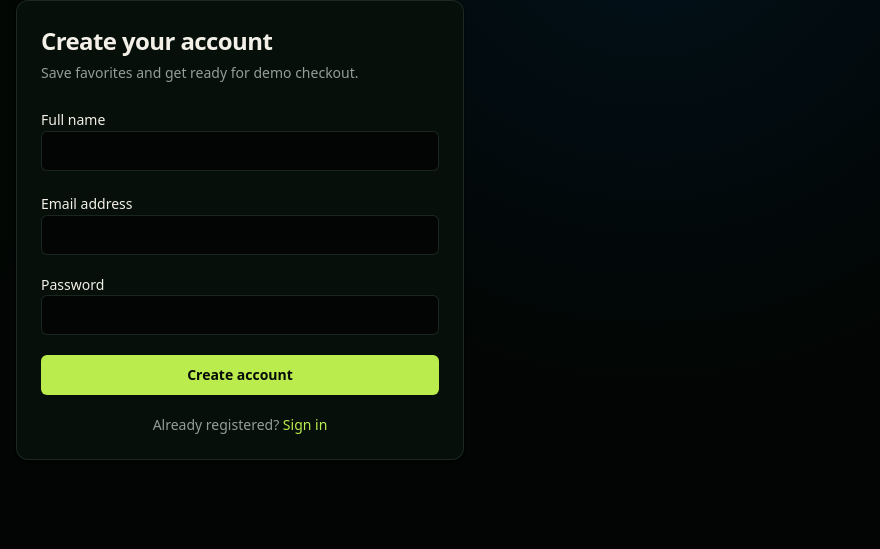
Test case: AuthForm › validates registration fields
The image size is (880, 549).
Click the button "Create account".
click(240, 375)  # box [41,355,439,395]
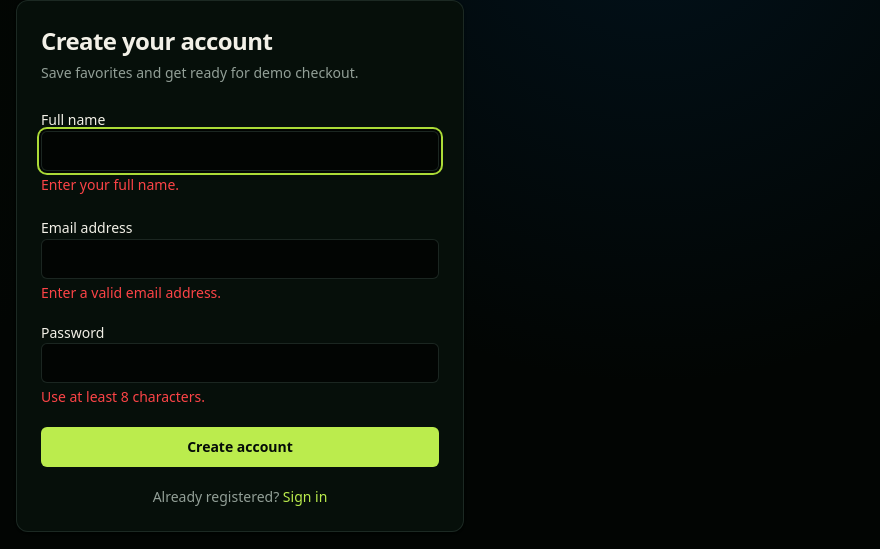
Now the text "Enter your full name." is shown, box [41,175,179,194]
Now the text "Enter a valid email address." is shown, box [41,283,221,302]
